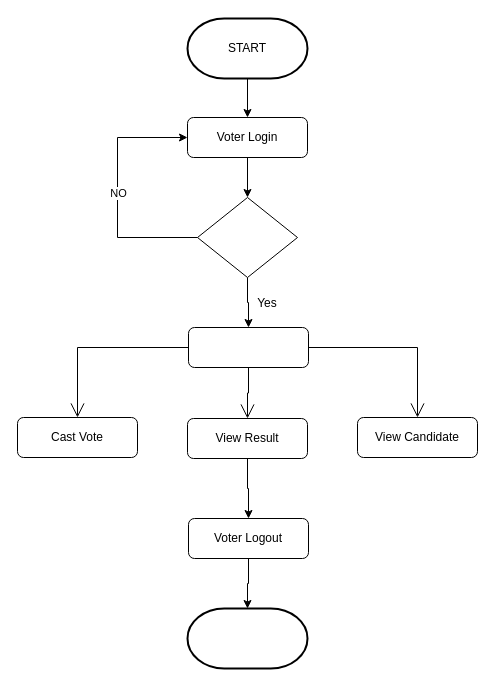
Image size: 495x686. Some labels were removed from this diagram. The shapes that lost their labels are listed below. From the top down, each one's centre as x and y in pixels, then its label:
the point at 247,237: Validation
the point at 248,347: Voter Dashboard
the point at 247,638: END
